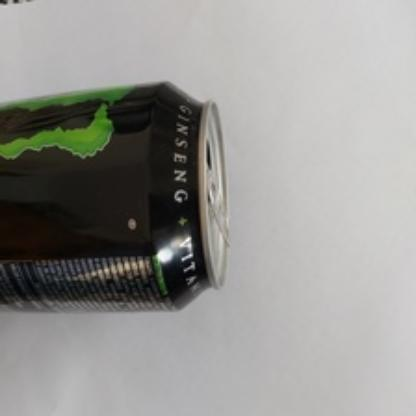Can: (0, 80, 226, 308)
